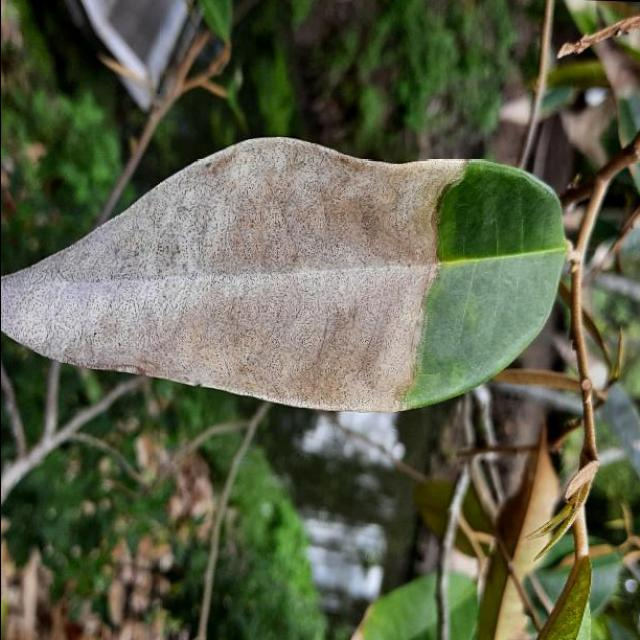Leaf Blight: (0, 121, 581, 431)
